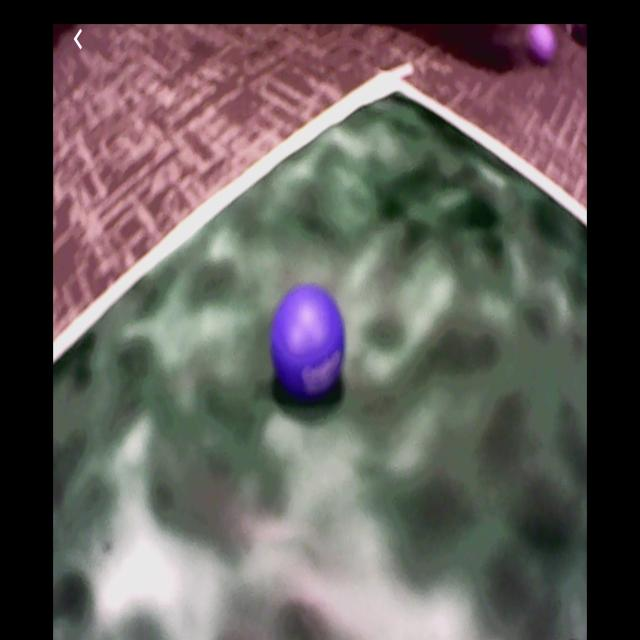ball: (271, 281, 347, 401), (524, 28, 558, 65)
